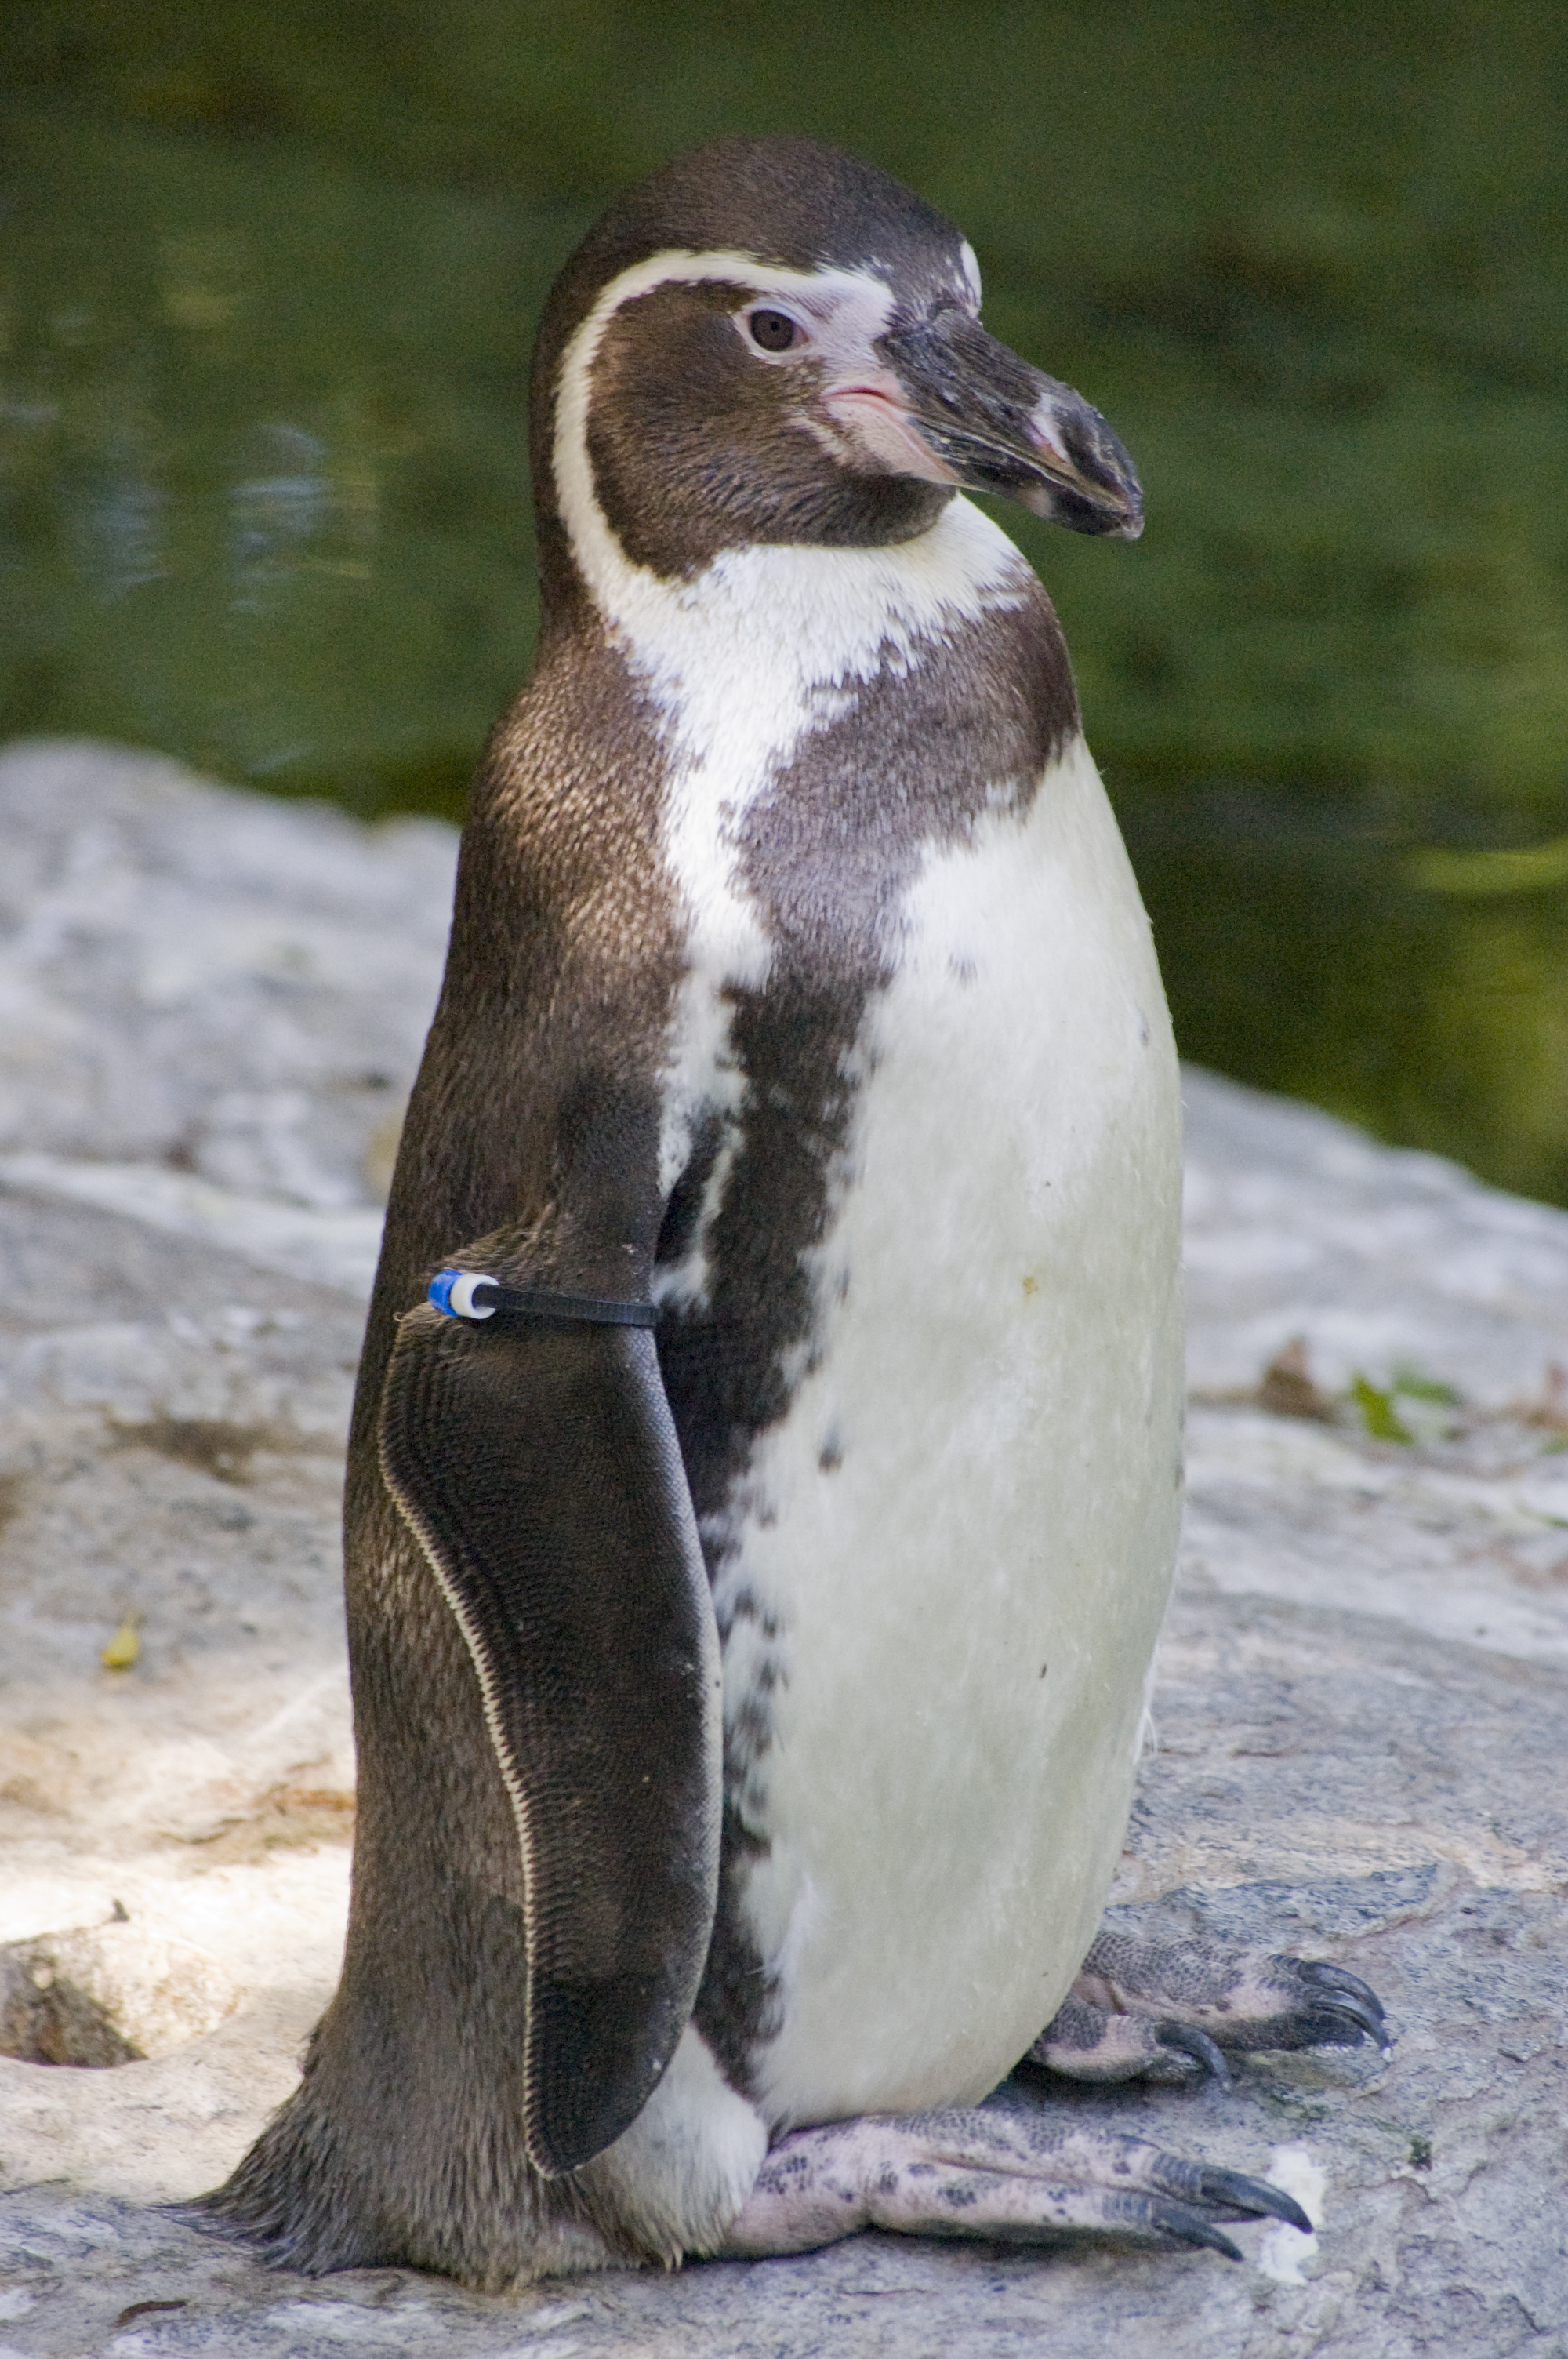penguin: (371, 133, 1390, 2284)
